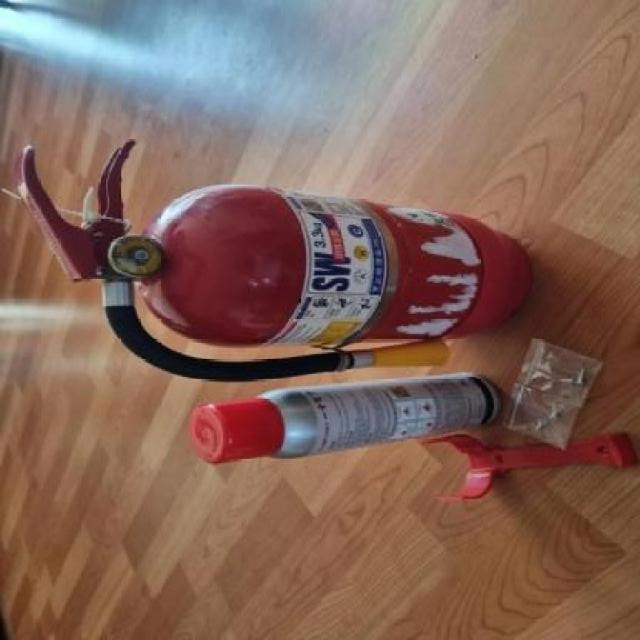fire extinguisher: (14, 141, 534, 382)
